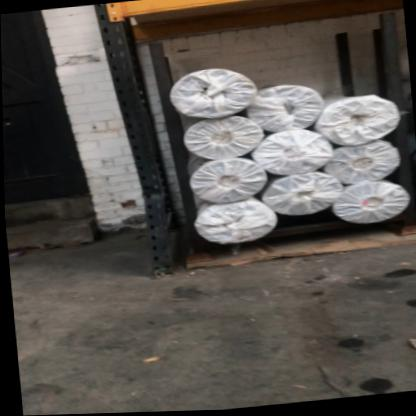vertical_damage: (125, 150, 176, 224)
